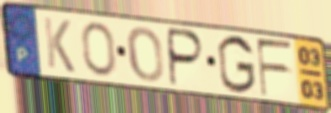F: (254, 37, 294, 99)
G: (216, 33, 258, 96)
K: (41, 15, 77, 76)
O: (125, 25, 166, 84), (79, 20, 119, 79)
P: (167, 26, 207, 90)
